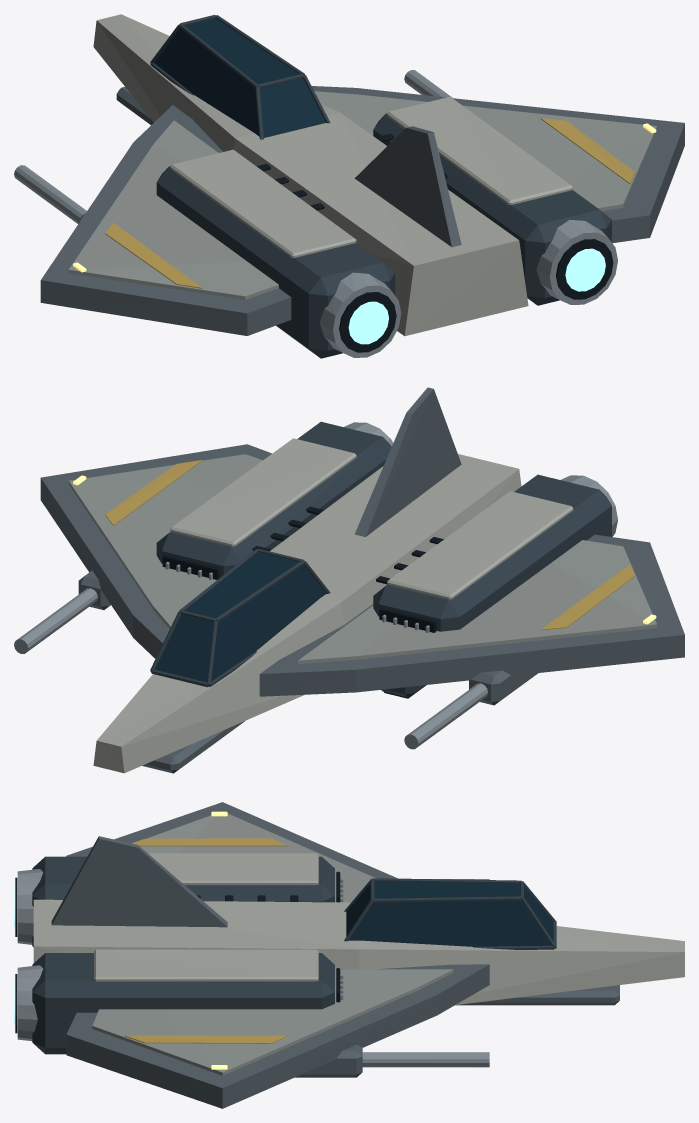
Rendered from vanguard_fleet_a.glb.
The picture shows the model from 3 angles, top to bottom: view 1: azimuth 30°, elevation 25°; view 2: azimuth 150°, elevation 25°; view 3: azimuth 270°, elevation 25°; orthographic projection. The views are drawn at different scales.
Visible parts, largest first — view 1: SF24_Vanguard_Flotte_A; view 2: SF24_Vanguard_Flotte_A; view 3: SF24_Vanguard_Flotte_A.
Boxes of the visible parts, <box> form: SF24_Vanguard_Flotte_A: <box>14,14,684,358</box>; SF24_Vanguard_Flotte_A: <box>14,387,684,773</box>; SF24_Vanguard_Flotte_A: <box>14,802,684,1108</box>.
Size of the model in its own units: 20.8 by 6.11 by 20.61.
